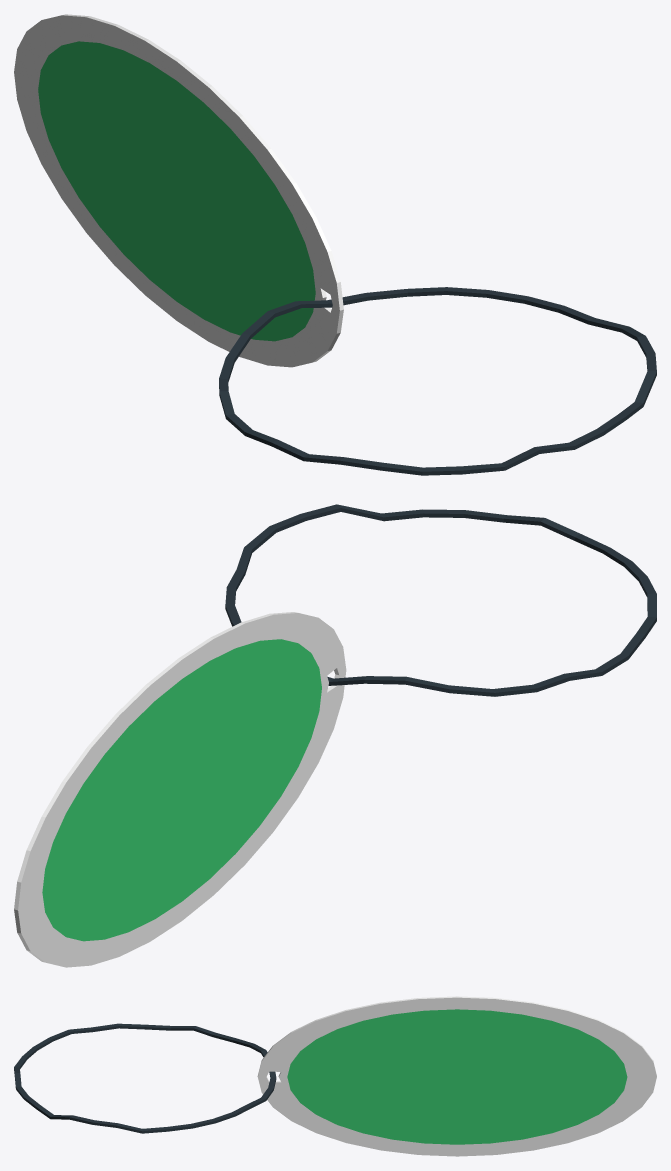
File: GreenOvalTag.fbx
The picture shows the model from 3 angles, top to bottom: view 1: azimuth 30°, elevation 25°; view 2: azimuth 150°, elevation 25°; view 3: azimuth 270°, elevation 25°; orthographic projection. The views are drawn at different scales.
Visible parts, largest first — view 1: OvalTag.002; view 2: OvalTag.002; view 3: OvalTag.002.
Part boxes in pixels (left/top/right/bottom): OvalTag.002: left=14, top=14, right=656, bottom=475; OvalTag.002: left=14, top=504, right=656, bottom=967; OvalTag.002: left=14, top=996, right=656, bottom=1156.
Bounding box in the file's own units: 55.34 × 35.79 × 131.
